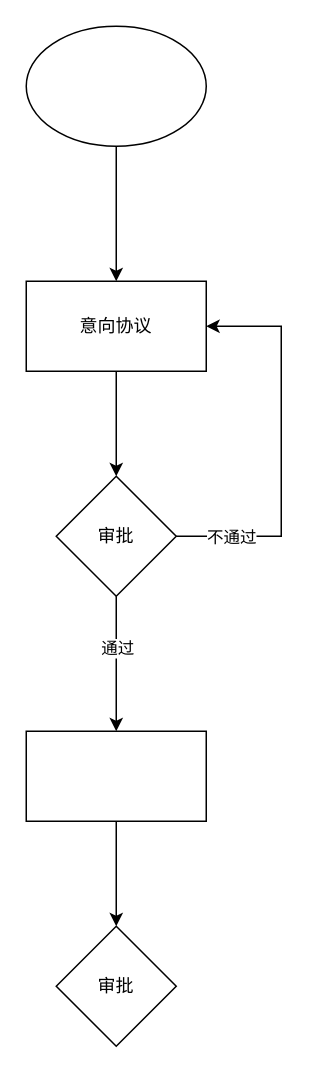
Some shapes in this 320 by 1073 pixel diagram are drawn without their labels. The centre of each missing label's shape, as x and y in pixels:
开始: the point at 115,85
意向金确认: the point at 115,775
